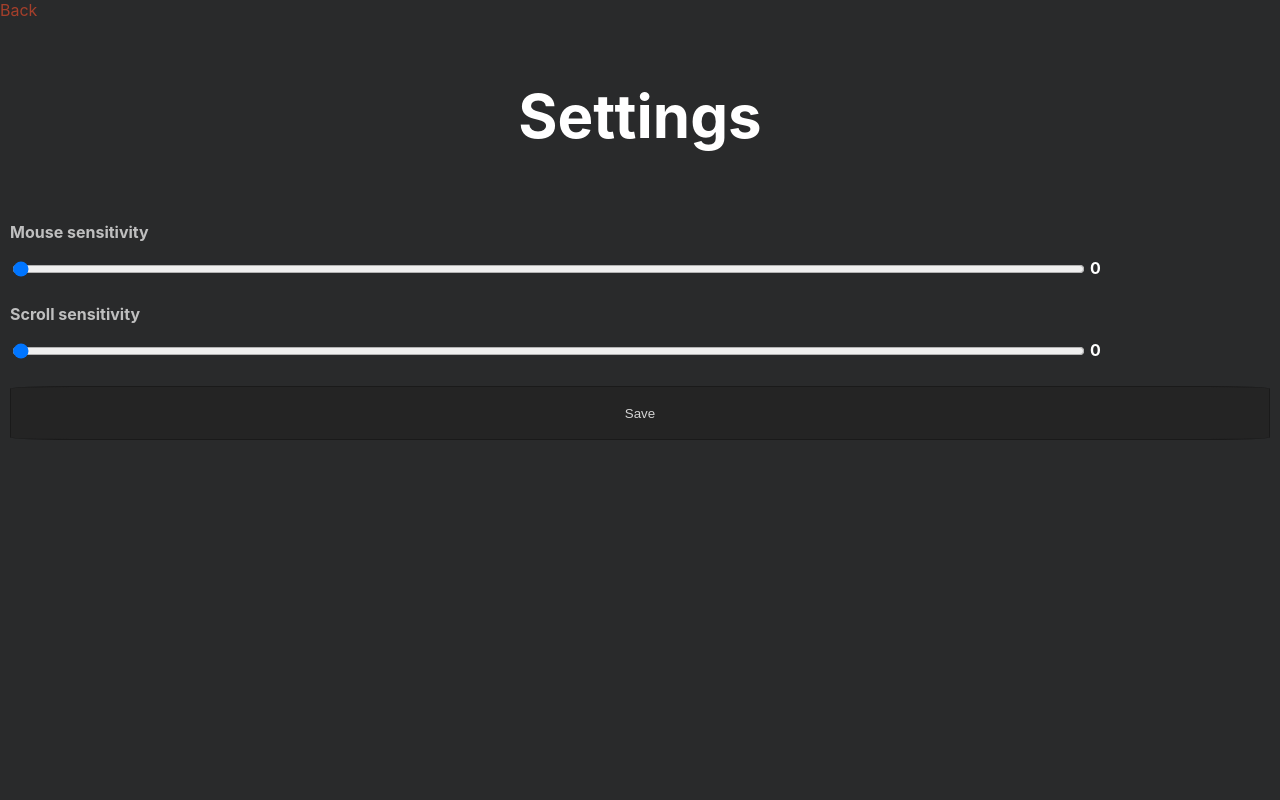
it: settings page › Scroll sensitivity slider › should not set the scroll value over max
This screenshot has width=1280, height=800.
Set the slider labelled "Scroll sensitivity 0" to "200": (548, 351) [12,342,1085,360]
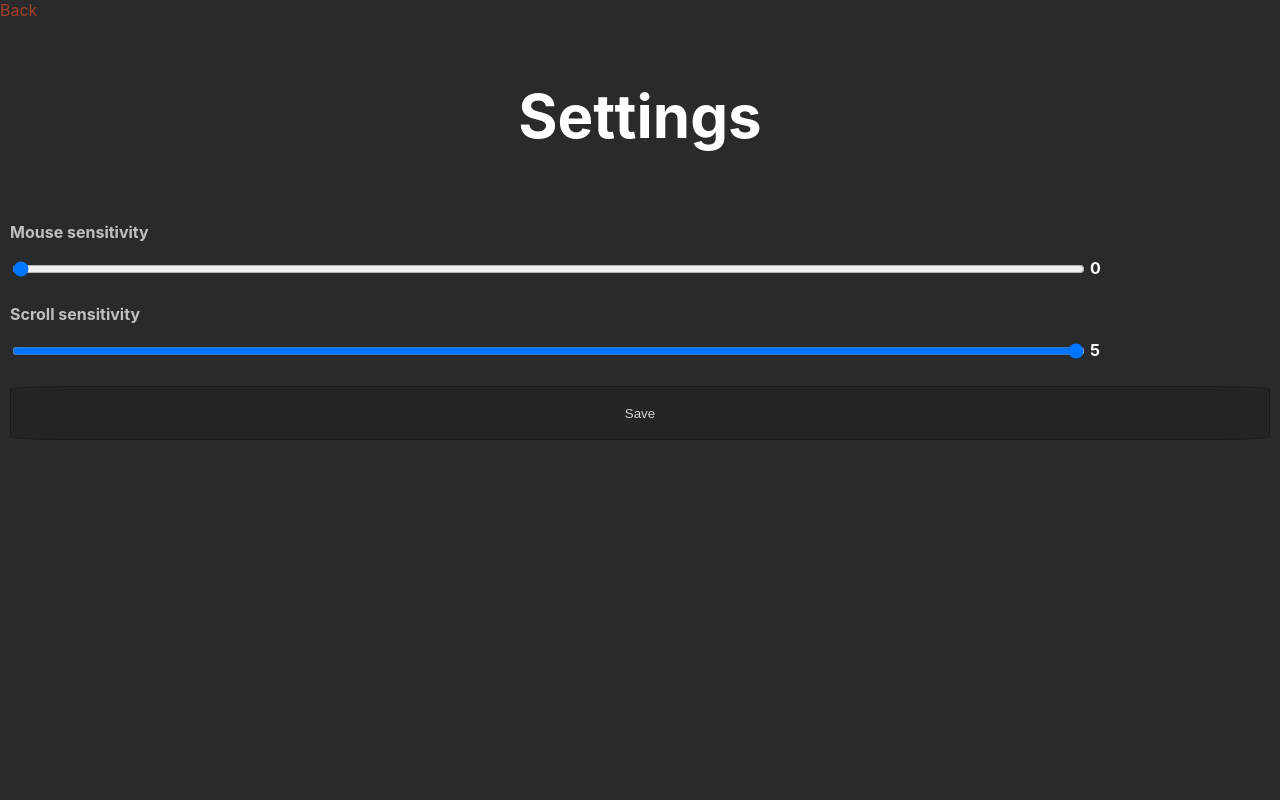
Expected: the slider labelled "Scroll sensitivity 5" holds "5", [12,342,1085,360]
